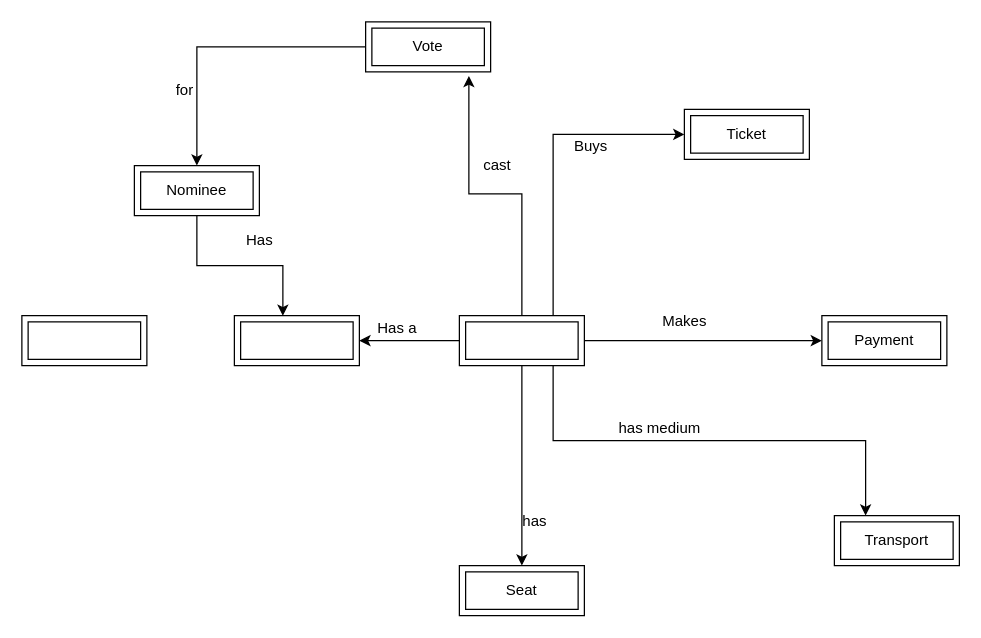
Some shapes in this 981 by 638 pixel diagram are drawn without their labels. The box of each missing label's shape, as (x1, y1, x2, y2) in pixels:
Award: (21, 314, 147, 366)
Role: (233, 314, 359, 366)
user: (458, 314, 584, 366)
